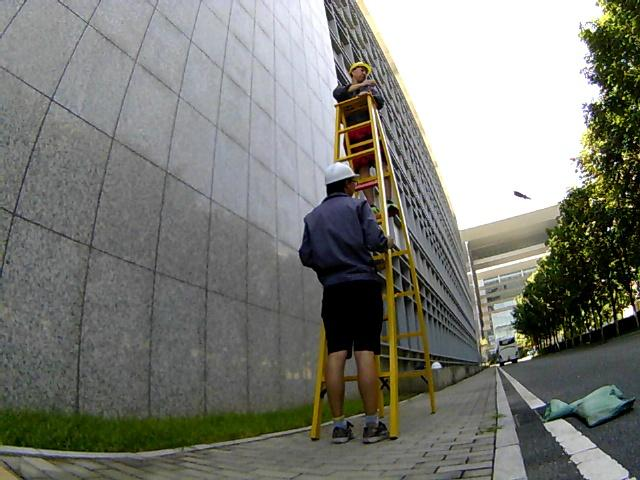未系安全绳的工作人员: (331, 60, 401, 218)
